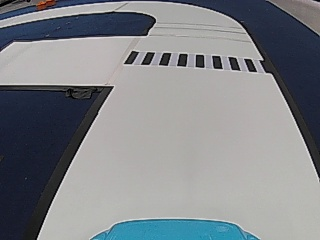CrossWalk: (120, 50, 266, 72)
